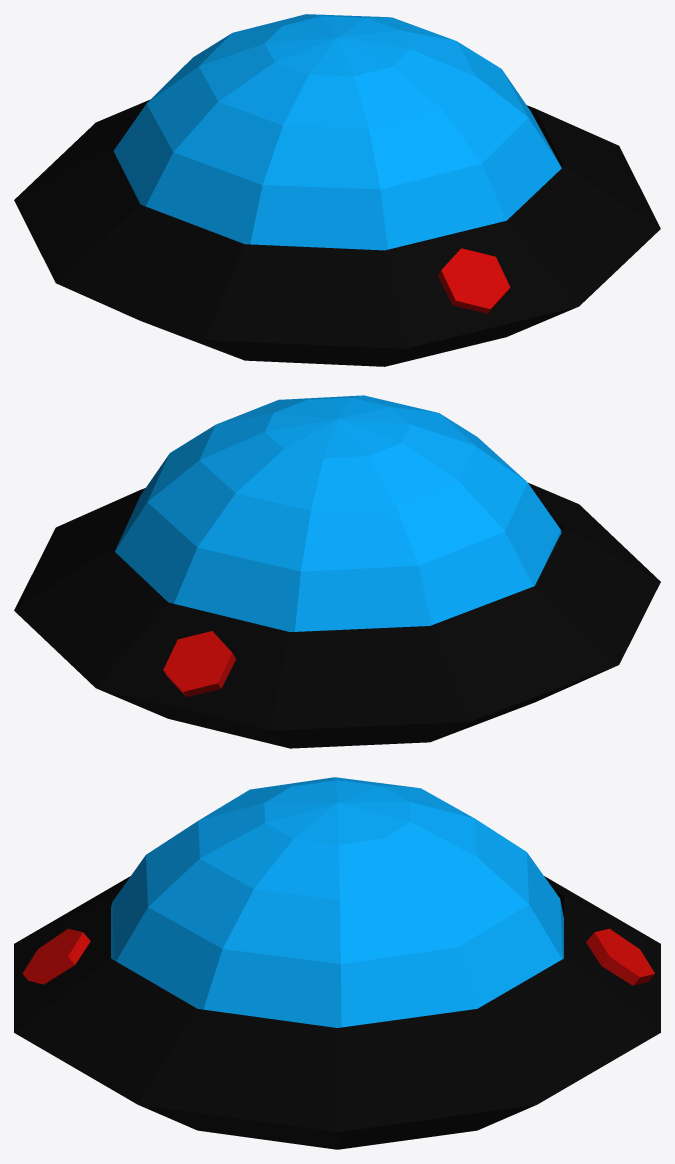
Rendered from ufo.obj.
The picture shows the model from 3 angles, top to bottom: view 1: azimuth 30°, elevation 25°; view 2: azimuth 150°, elevation 25°; view 3: azimuth 270°, elevation 25°; orthographic projection. The views are drawn at different scales.
Parts seen in each view (by area): view 1: Sphere, Torus.002, Cylinder.001; view 2: Sphere, Torus.002, Cylinder.002; view 3: Sphere, Torus.002, Cylinder.002, Cylinder.001.
Boxes of the visible parts, left/top/right/bottom form: Sphere: left=113, top=14, right=561, bottom=250; Torus.002: left=14, top=99, right=660, bottom=366; Cylinder.001: left=438, top=248, right=510, bottom=313; Sphere: left=115, top=395, right=561, bottom=631; Torus.002: left=14, top=483, right=660, bottom=748; Cylinder.002: left=163, top=631, right=235, bottom=696; Sphere: left=111, top=777, right=563, bottom=1027; Torus.002: left=14, top=876, right=660, bottom=1149; Cylinder.002: left=586, top=928, right=654, bottom=985; Cylinder.001: left=22, top=928, right=90, bottom=984.
Size of the model in its own units: 2.5 by 0.9968 by 2.38.
